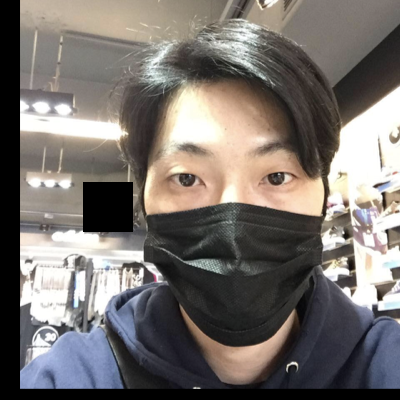with_mask: (141, 133, 325, 344)
